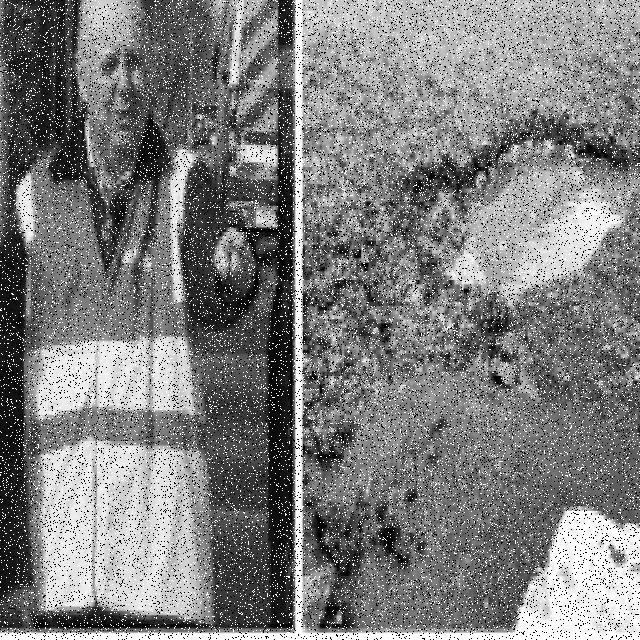pothole: (420, 119, 640, 310)
